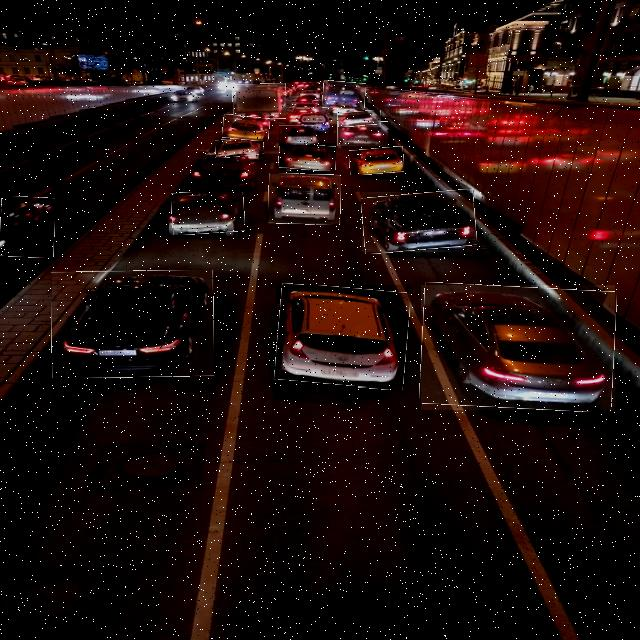Bus: (323, 81, 365, 110)
Car: (421, 285, 615, 410), (52, 270, 214, 378), (276, 286, 409, 388), (362, 192, 477, 252), (269, 174, 341, 224), (0, 196, 54, 257), (171, 190, 245, 234), (192, 152, 254, 192), (279, 143, 336, 170), (350, 147, 404, 174), (337, 121, 388, 146), (223, 115, 269, 140), (215, 137, 264, 157), (279, 125, 319, 146), (338, 111, 381, 127)
Truck: (233, 84, 286, 119)
